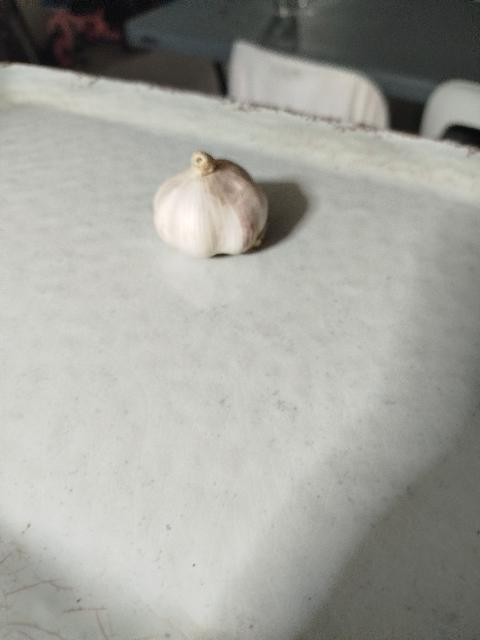garlic: (152, 150, 270, 258)
